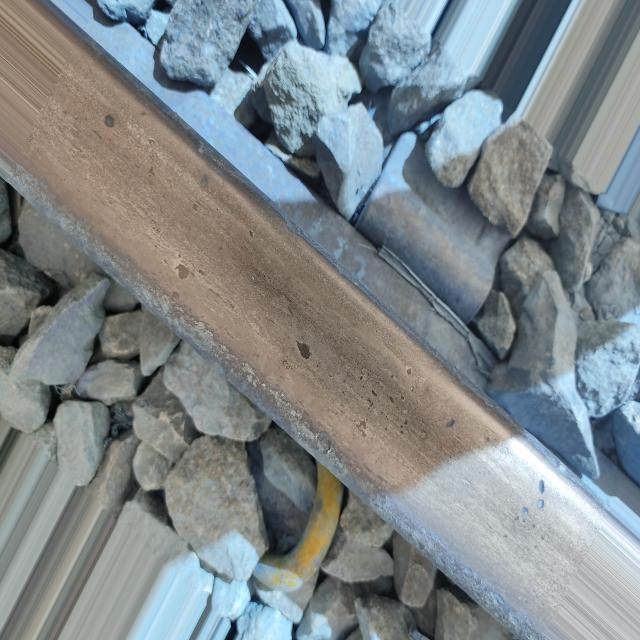Good Fasteners: (248, 424, 344, 624)
Missing Fastener: (355, 133, 511, 322)
